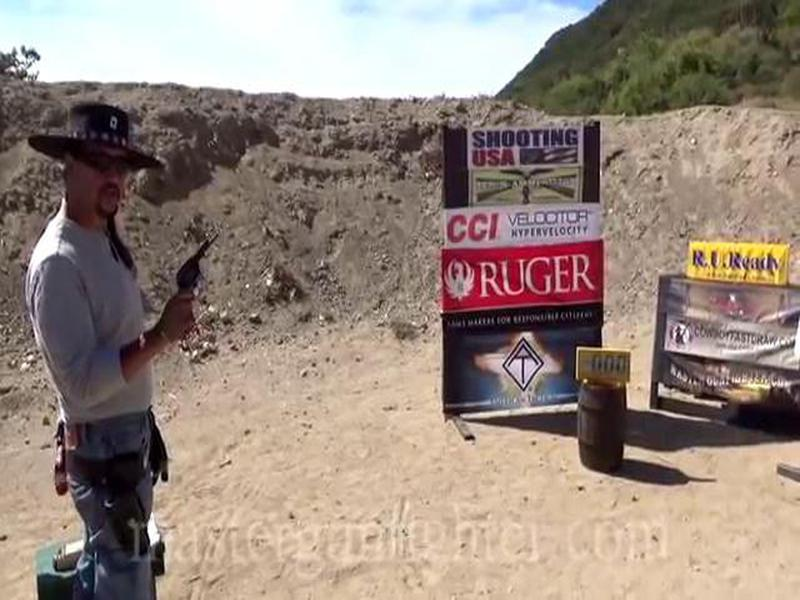Revolver: (164, 219, 226, 346)
